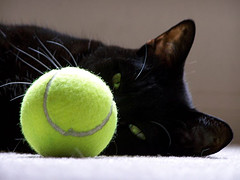tennis ball: (18, 63, 117, 159)
